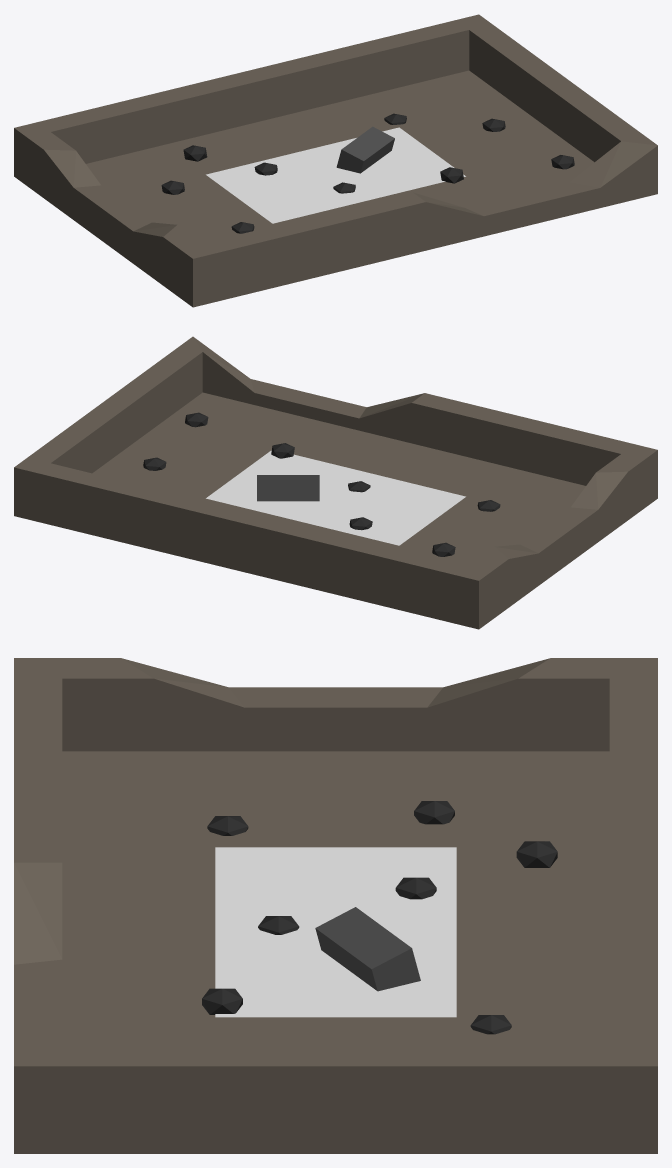
File: PoolRuins.fbx
The picture shows the model from 3 angles, top to bottom: view 1: azimuth 30°, elevation 25°; view 2: azimuth 150°, elevation 25°; view 3: azimuth 270°, elevation 25°; orthographic projection. The views are drawn at different scales.
Visible parts, largest first — view 1: medence, viz; view 2: medence, viz; view 3: medence, viz.
Part boxes in pixels (<box>): medence: <box>14,14,657,307</box>; viz: <box>206,127,465,223</box>; medence: <box>14,336,657,629</box>; viz: <box>206,450,465,545</box>; medence: <box>14,658,657,1153</box>; viz: <box>215,847,456,1017</box>.
Bounding box in the file's own units: 6 × 0.6066 × 4.
2 materials, 1 textured.
